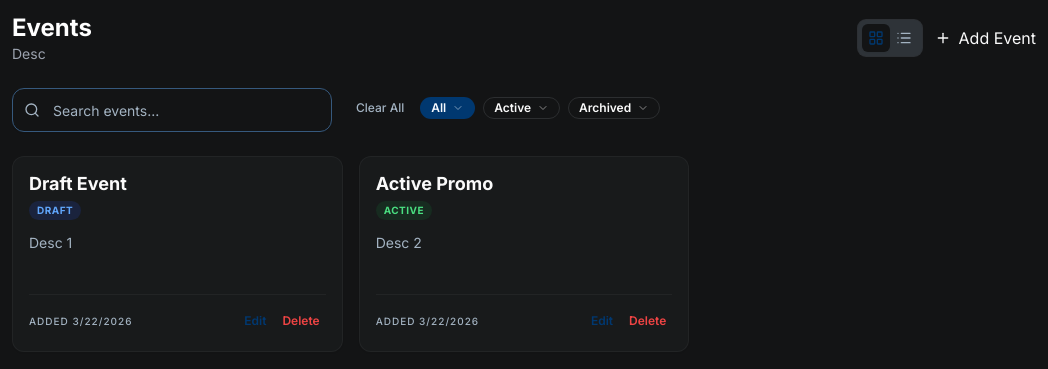
Scenario: CommunityOS Integration Tests › handles search and filtering correctly
This screenshot has width=1048, height=369.
Expected: the heading "Draft Event" is shown, [29, 173, 127, 196]
Expected: the heading "Active Promo" is shown, [376, 173, 493, 196]
Note: Search for "Draft"
Type "Draft" into the field with placeholder "Search events..." at (172, 110), box [12, 88, 332, 132]
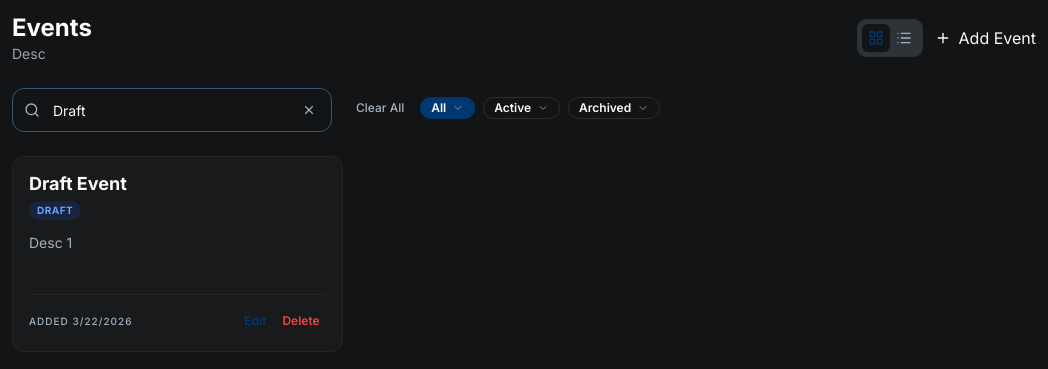
Expected: the heading "Draft Event" is shown, [29, 173, 127, 196]
Expected: the heading "Active Promo" is gone
